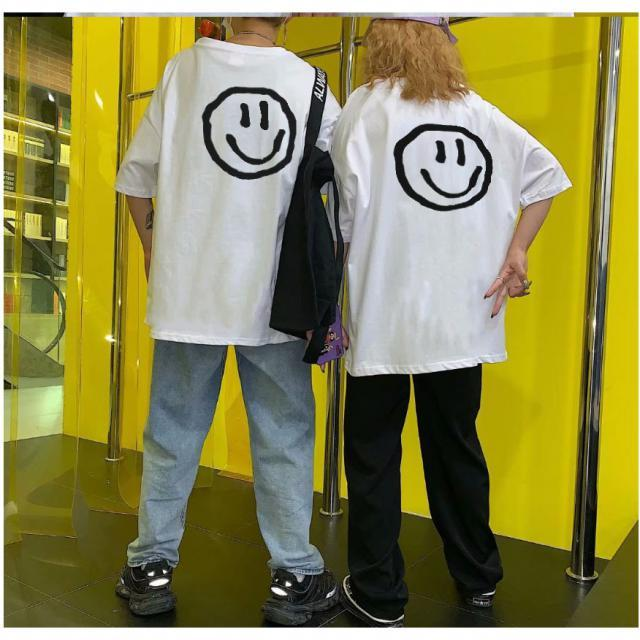Shirt: (110, 32, 350, 354), (328, 69, 576, 380)
